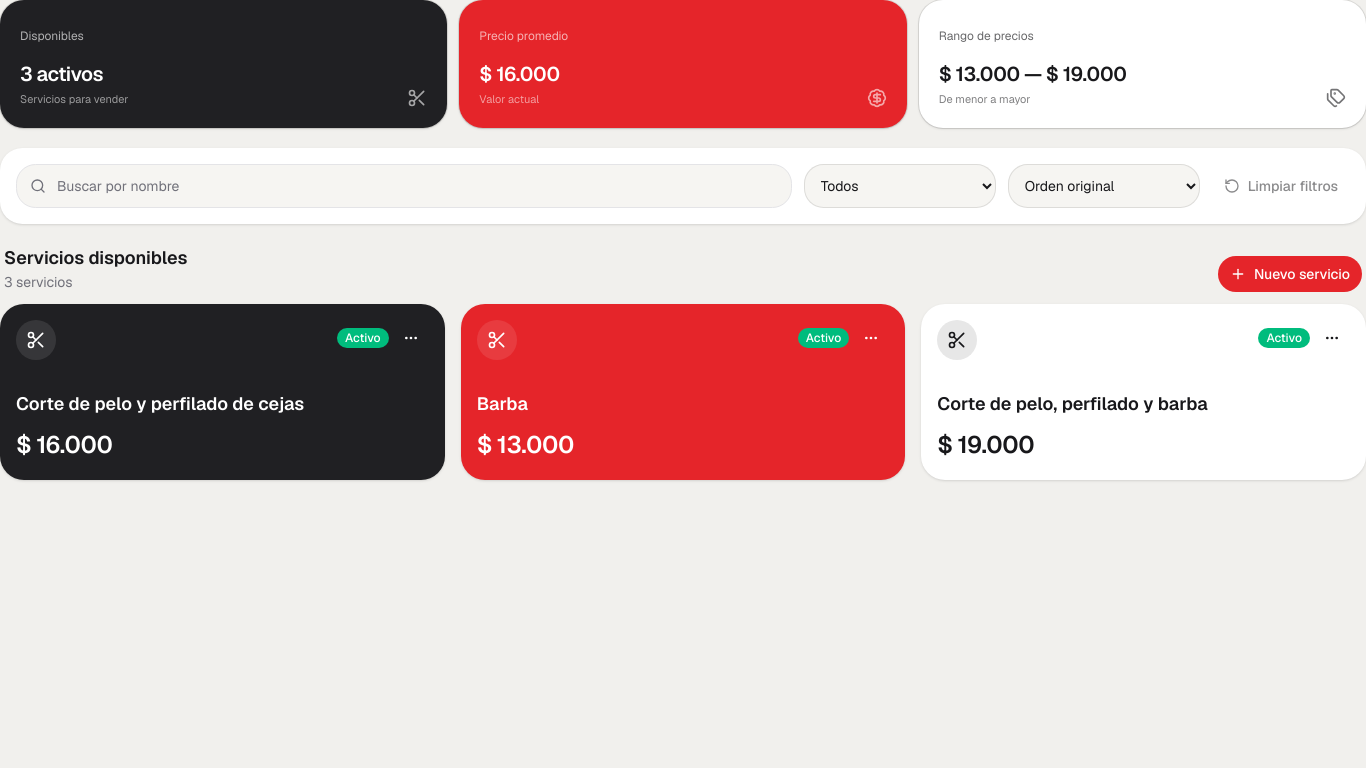
Test: shows an empty state for unmatched filters
The width and height of the screenshot is (1366, 768).
Type "tintura" into the search field named "Buscar servicios" at point(404, 186), box [16, 164, 792, 208]
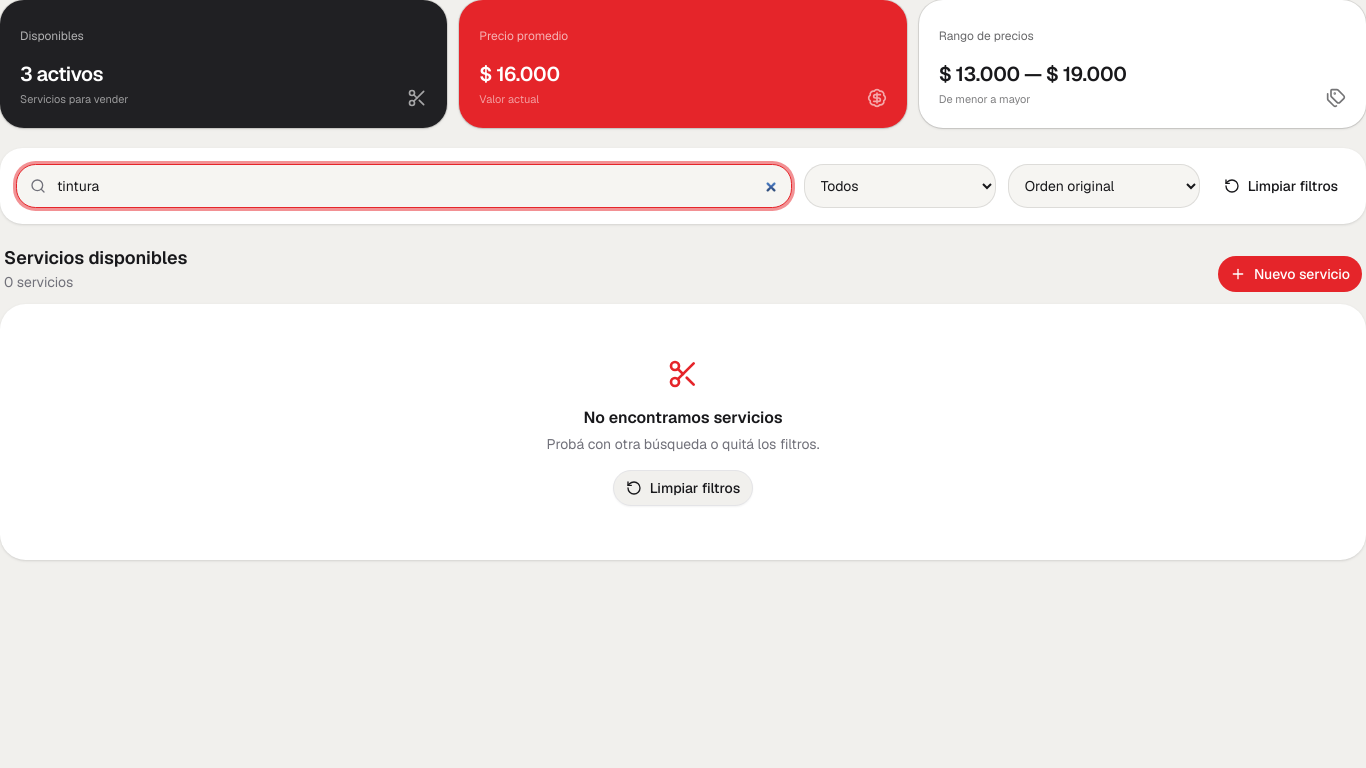
expect the heading "No encontramos servicios" is shown: met, box [584, 406, 782, 430]
